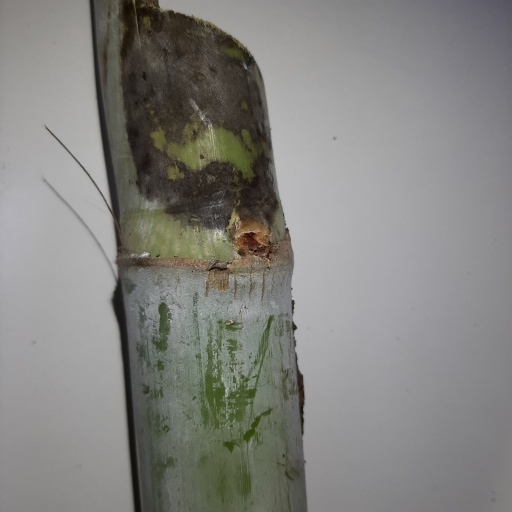Damage_Bud: (233, 217, 270, 258)
